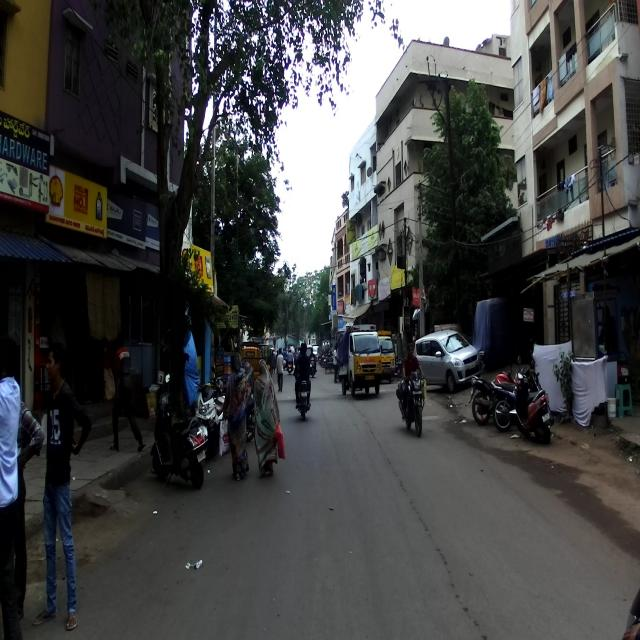car: (413, 328, 482, 394)
motorcycle: (487, 368, 554, 434), (467, 359, 516, 426), (195, 380, 229, 461), (398, 371, 426, 436)
scooter: (151, 372, 208, 488), (508, 354, 554, 444)
truck: (337, 320, 382, 398), (378, 329, 396, 382)
